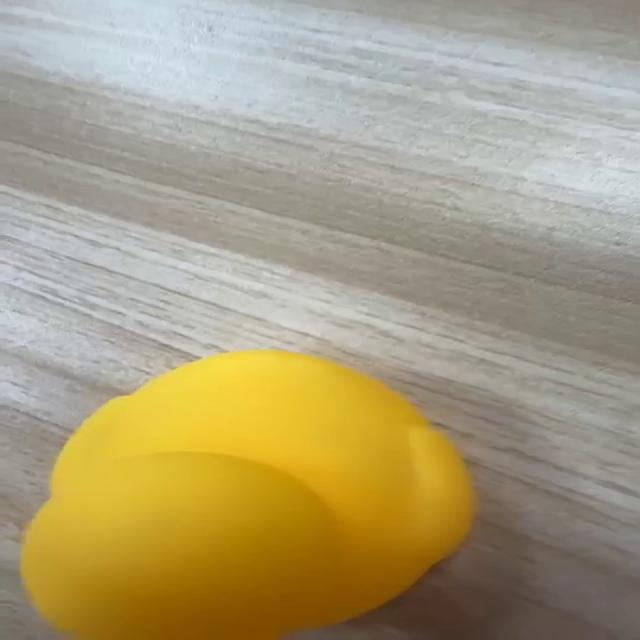yellow_duck: (18, 347, 478, 638)
